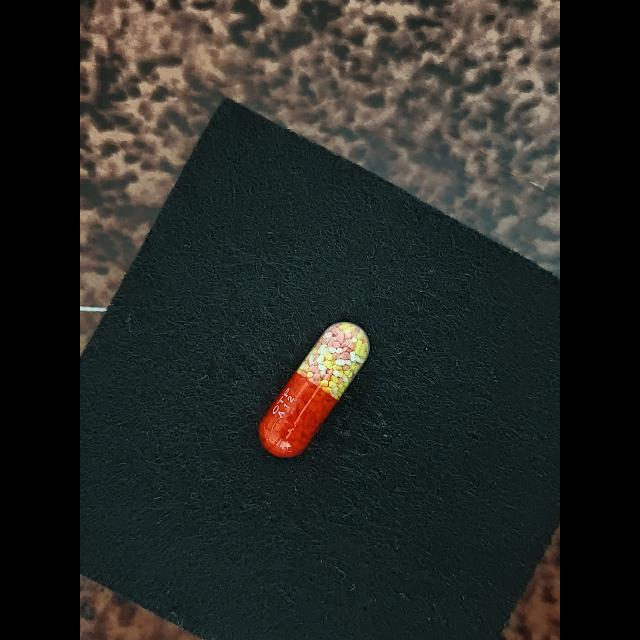Intact Capsule: (259, 322, 370, 457)
